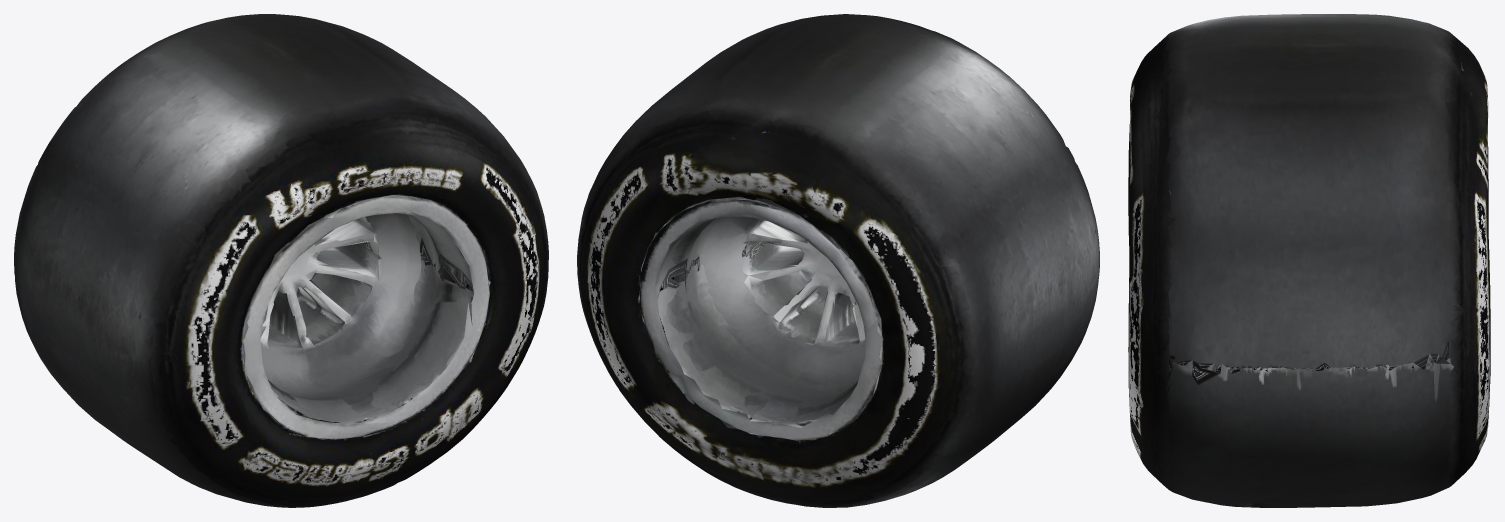
The model's file is rueda_duro_alto.glb.
3 renders of one model, left to right at view 1: azimuth 30°, elevation 25°; view 2: azimuth 150°, elevation 25°; view 3: azimuth 270°, elevation 25°, orthographic. The views are drawn at different scales.
Visible parts, largest first — view 1: tripo_part_4; view 2: tripo_part_4; view 3: tripo_part_4.
Boxes of the visible parts, box(x1,y1,x2,y2) form: tripo_part_4: box(14, 14, 548, 507); tripo_part_4: box(577, 14, 1099, 507); tripo_part_4: box(1128, 14, 1490, 507).
Size of the model in its own units: 0.7159 by 0.6579 by 0.4936.
Materials: 1 (1 with a texture image).
